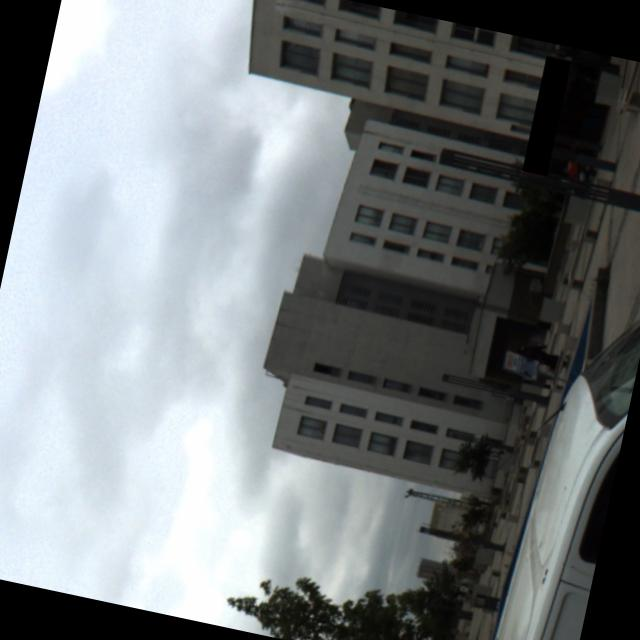SignStore: (522, 56, 571, 173)
